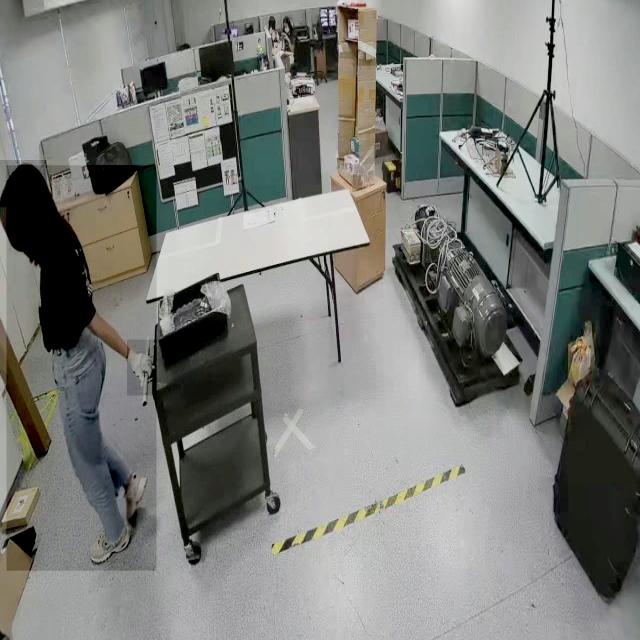hand_glove: (127, 340, 157, 396)
head_nohelmet: (0, 160, 47, 208)
person: (7, 166, 157, 572)
shoes: (87, 515, 131, 568), (123, 454, 147, 531)
